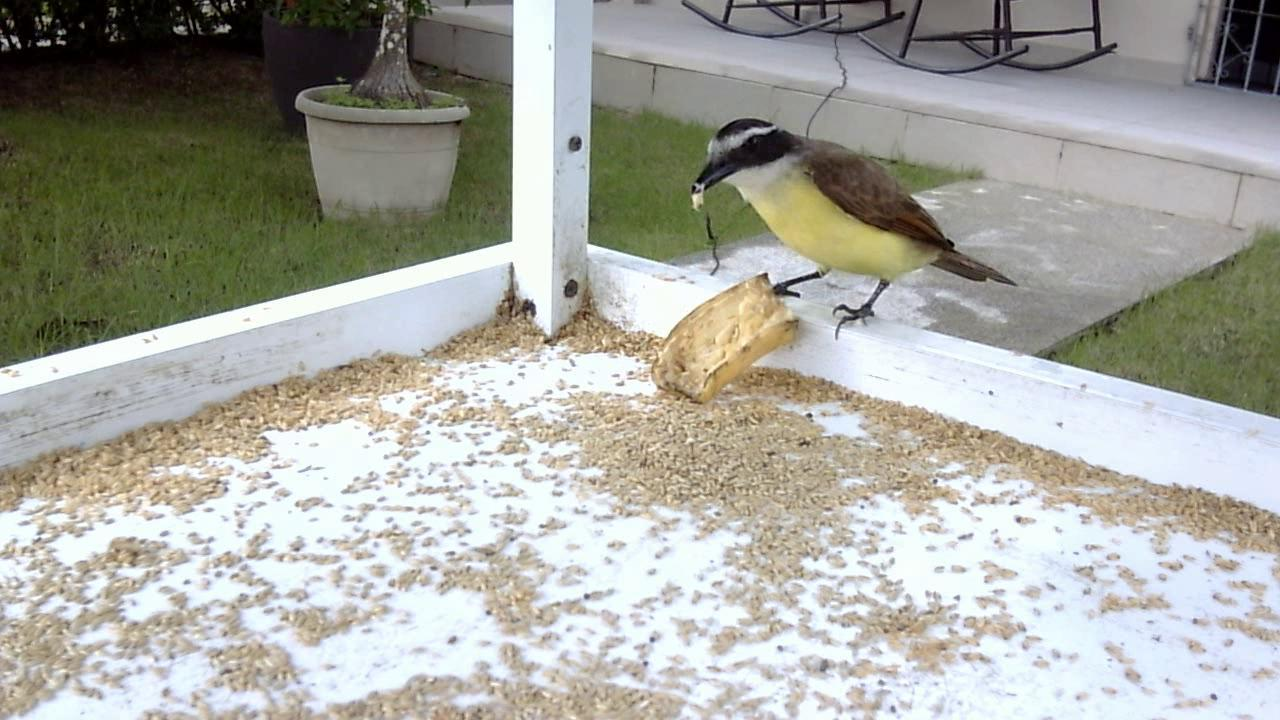bem_te_vi: (677, 99, 1027, 354)
